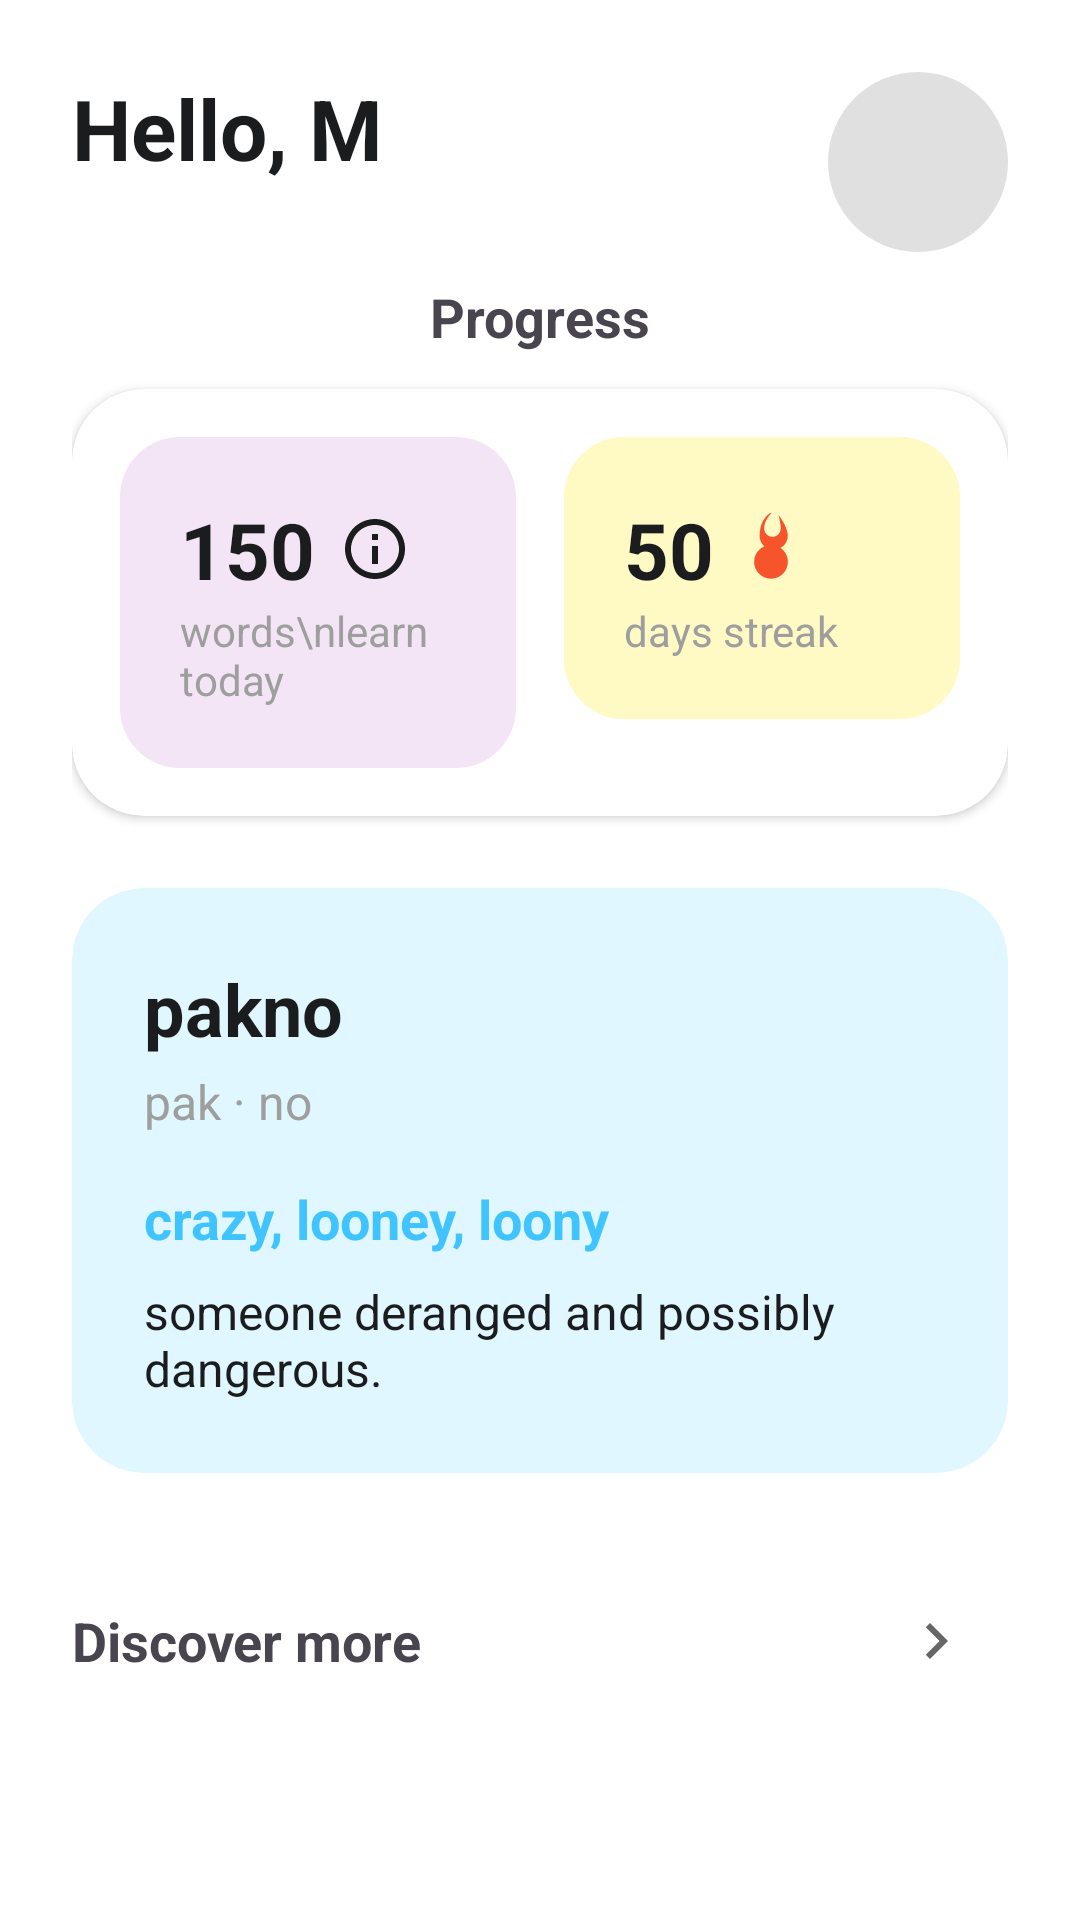

Screen size 1080 × 1920. Icon name, then its center in pixels as (x,y):
chevron right: (937,1641)
